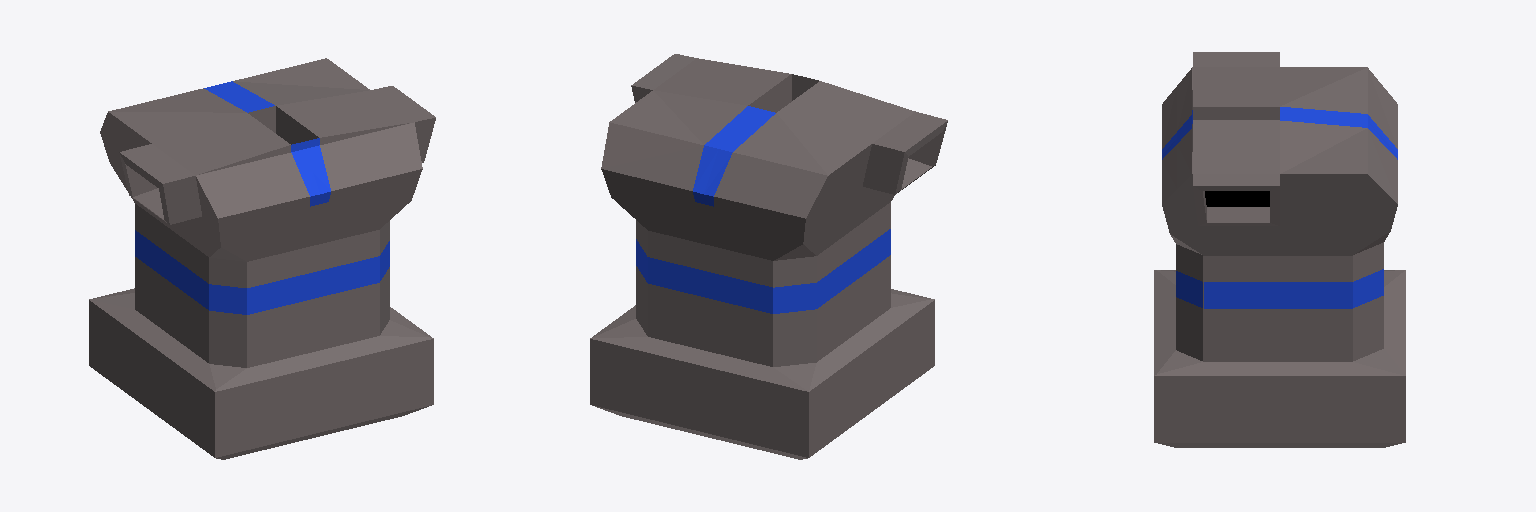
File: TorsoRobot1.obj
3 views of the same model, side by side, from view 1: azimuth 30°, elevation 25°; view 2: azimuth 150°, elevation 25°; view 3: azimuth 270°, elevation 25° (orthographic).
Visible parts, largest first — view 1: TorsoRobot1; view 2: TorsoRobot1; view 3: TorsoRobot1.
Part boxes in pixels (bbox=[...]): TorsoRobot1: bbox=[89, 58, 435, 459]; TorsoRobot1: bbox=[590, 54, 947, 459]; TorsoRobot1: bbox=[1154, 52, 1405, 447].
Size of the model in its own units: 1.25 by 1.27 by 1.